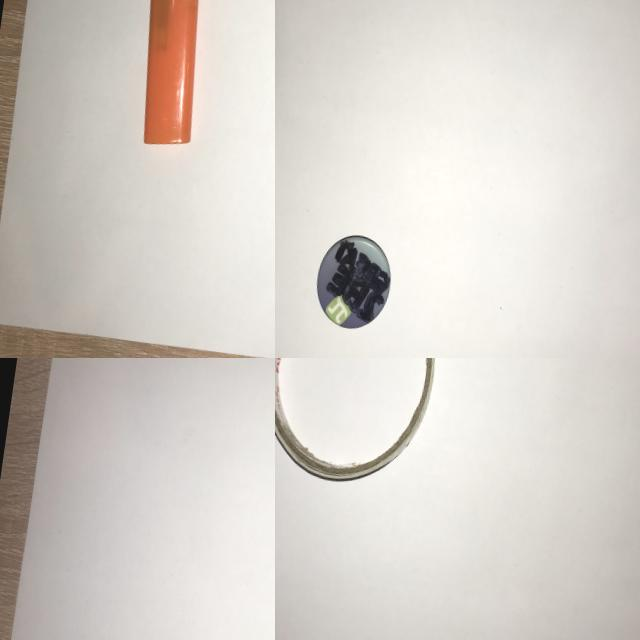icon: (304, 220, 406, 344)
lighter: (116, 0, 226, 160)
scotch: (275, 358, 456, 500)
